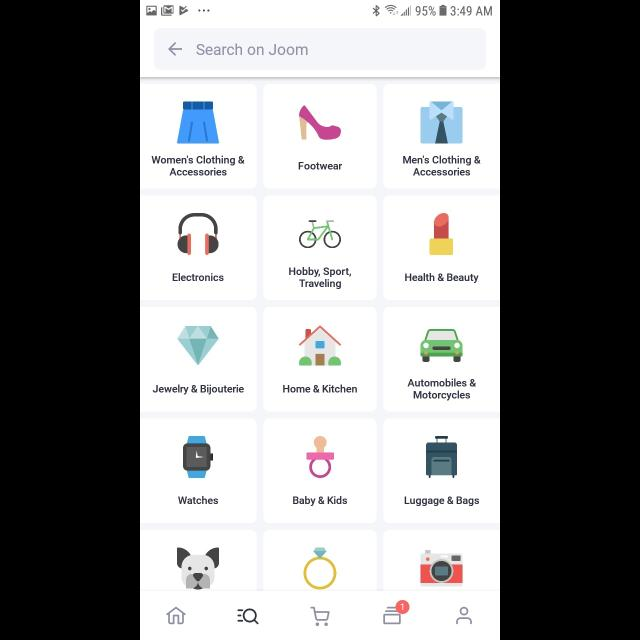icon: (383, 600, 409, 624), (310, 606, 330, 626), (167, 607, 186, 625), (238, 609, 258, 625), (456, 607, 472, 625), (169, 43, 183, 57)
image: (177, 102, 220, 144), (420, 102, 462, 144), (177, 548, 219, 590), (178, 213, 218, 255), (177, 326, 219, 366), (299, 326, 341, 366), (421, 550, 463, 586), (299, 106, 341, 140), (421, 330, 463, 362), (304, 547, 336, 589), (427, 436, 458, 478), (183, 436, 213, 478), (299, 220, 341, 248), (306, 436, 334, 478), (429, 213, 453, 255)
input: (154, 28, 486, 70)
text: (152, 156, 245, 177), (403, 156, 481, 176), (408, 379, 476, 401), (289, 267, 351, 289), (196, 44, 308, 56), (153, 385, 244, 395), (404, 497, 480, 507), (405, 273, 479, 283), (283, 385, 357, 393), (293, 496, 347, 506), (172, 273, 224, 281), (298, 162, 342, 170), (178, 496, 218, 504)
uppertaskbar: (140, 1, 500, 17)
